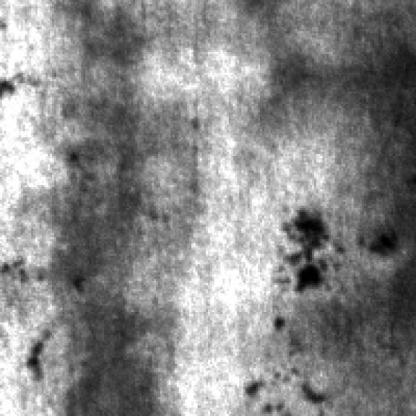inclusion: (281, 212, 331, 298), (10, 329, 54, 393), (356, 216, 401, 270)
patches: (41, 97, 168, 416), (254, 33, 414, 208), (268, 288, 414, 374), (45, 2, 146, 104)
